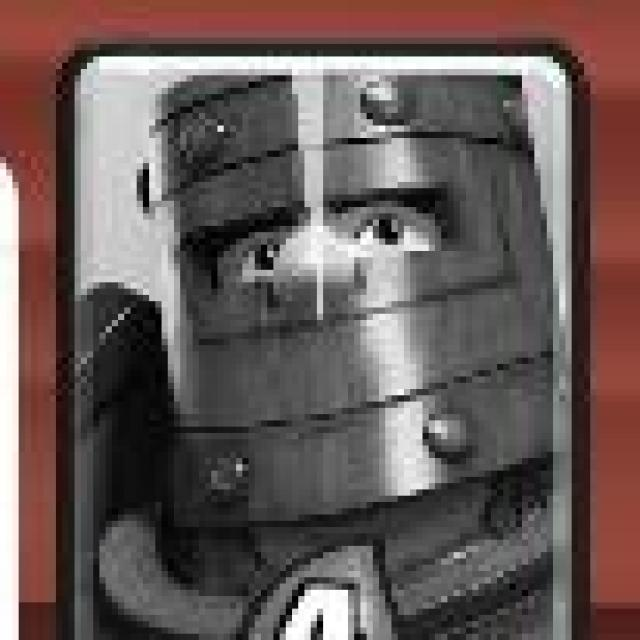Dark_Prince: (50, 36, 592, 640)
